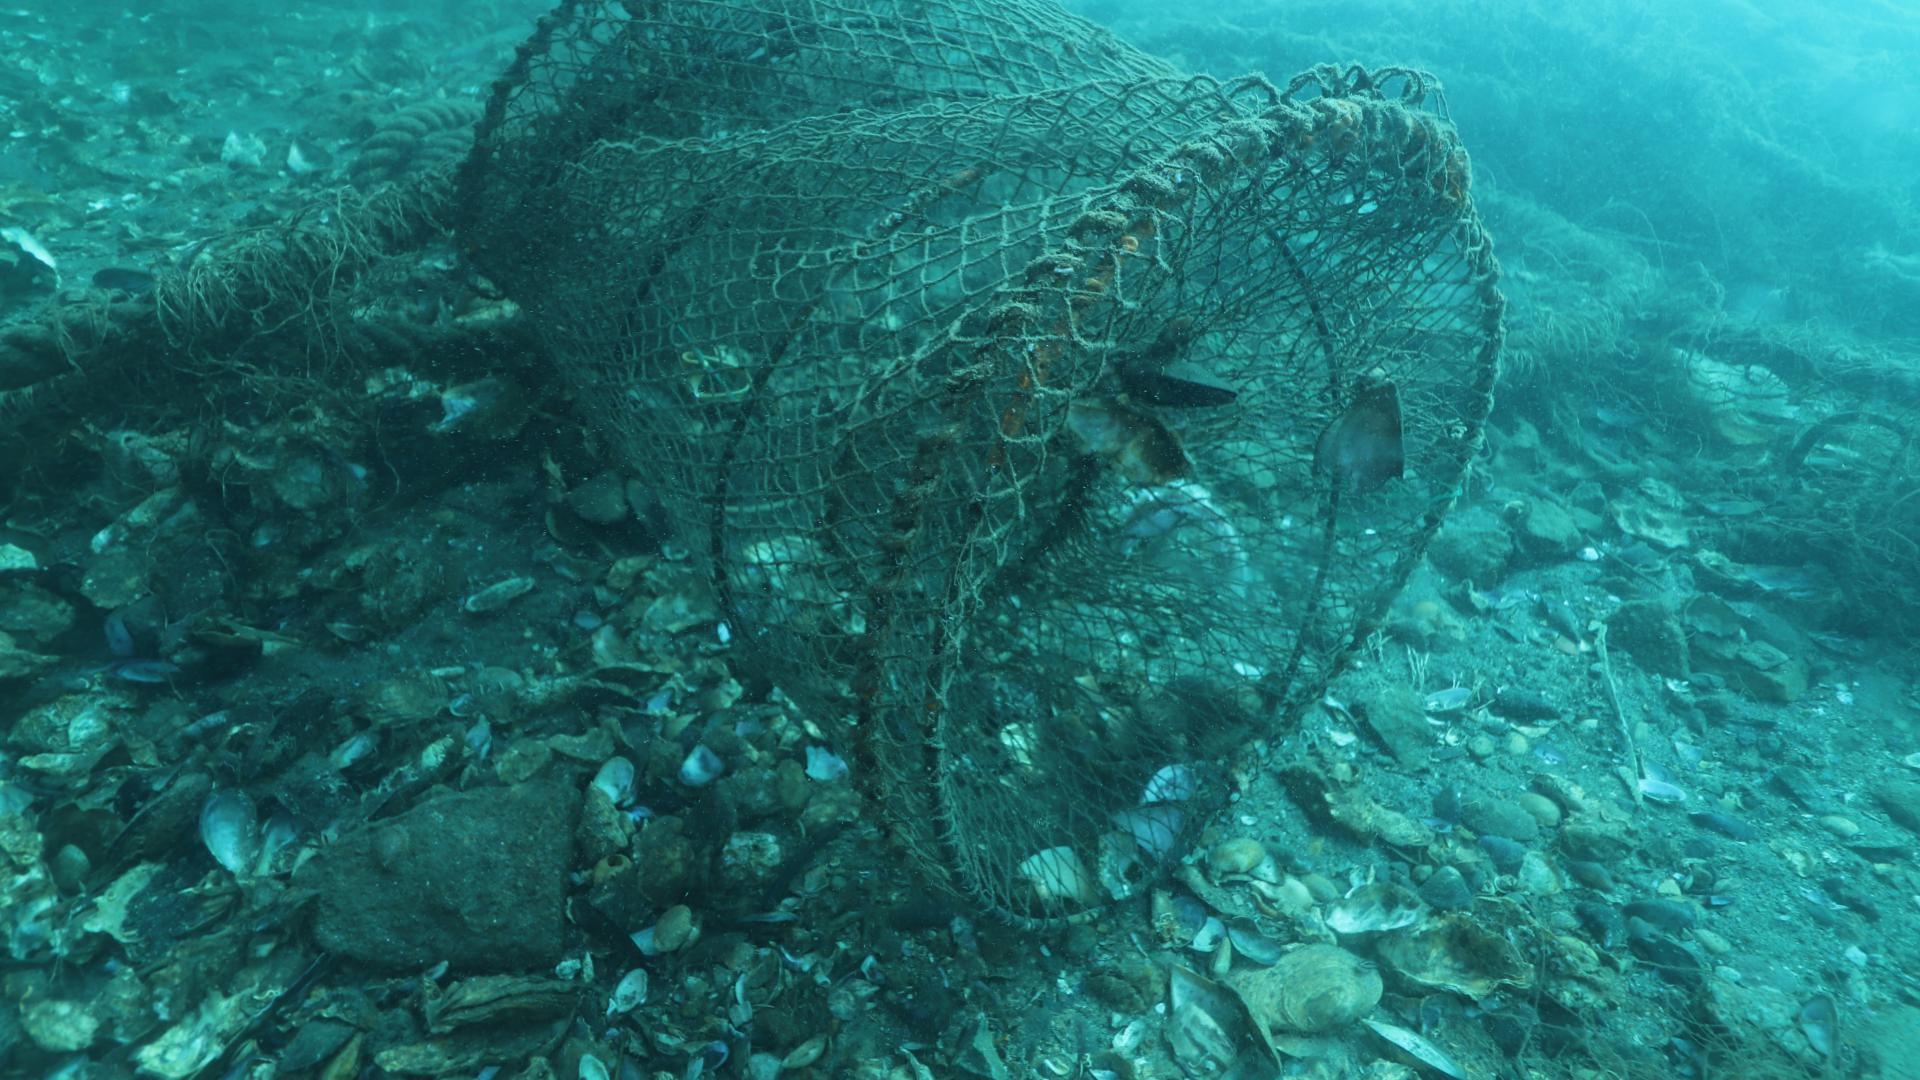bundle of ropes: (349, 95, 483, 193)
spring fish trap: (452, 0, 1497, 930)
